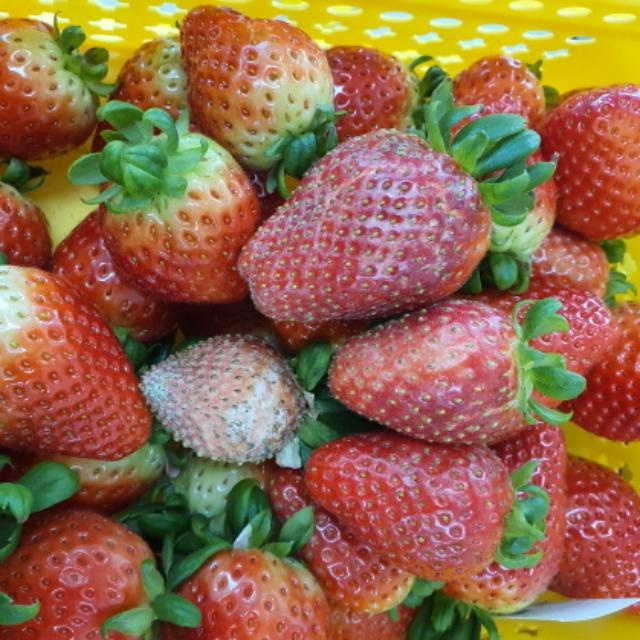Powdery Mildew Fruit: (236, 127, 493, 325), (325, 299, 535, 445), (137, 333, 312, 466)
